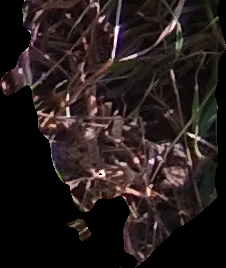soil: (3, 3, 226, 266)
